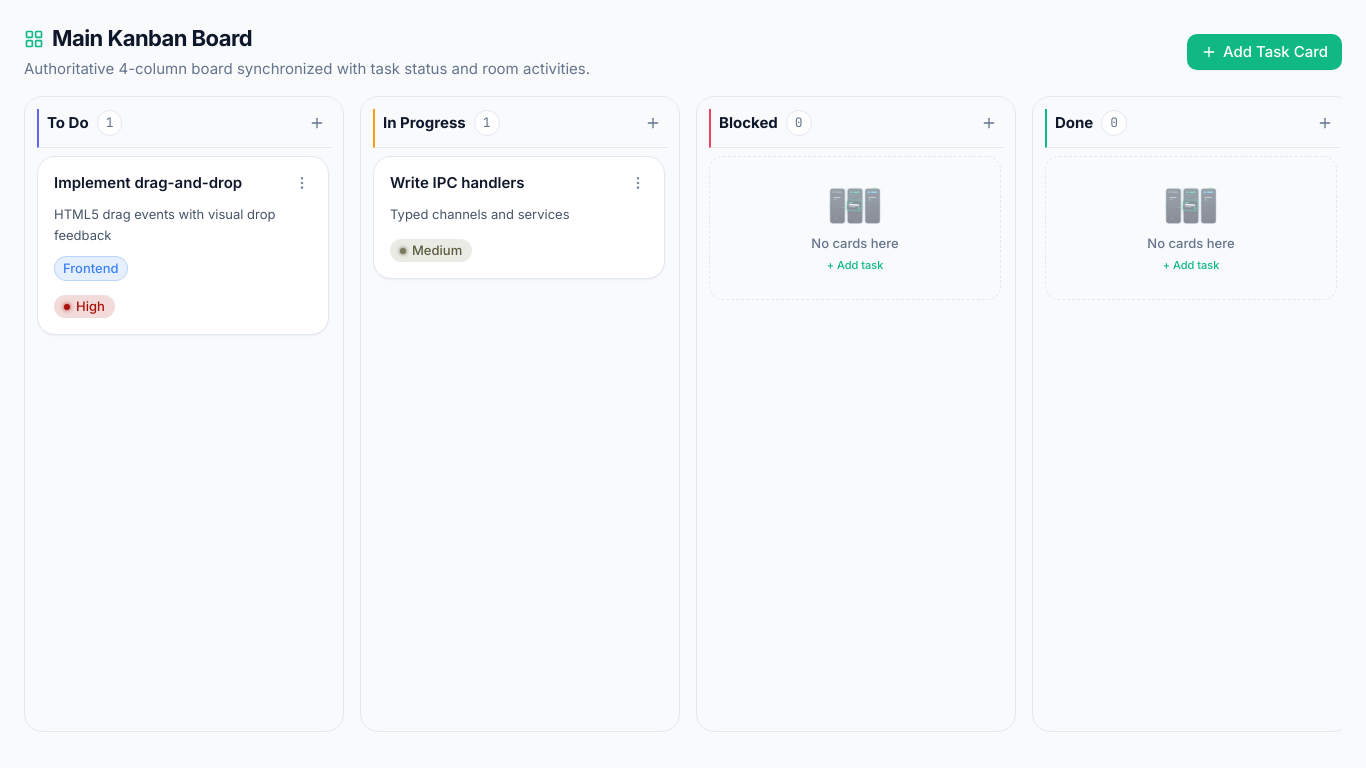
Test: káno̱ Desktop Kanban Board › opens New Task dialog with column preselected when column + button is clicked
This screenshot has width=1366, height=768.
Expected: the text "To Do" is shown, top-left (47, 112), bottom-right (89, 134)
// Click on In Progress column's + button
Click the button named "Add task to ": (653, 123) top-left (639, 109), bottom-right (667, 137)
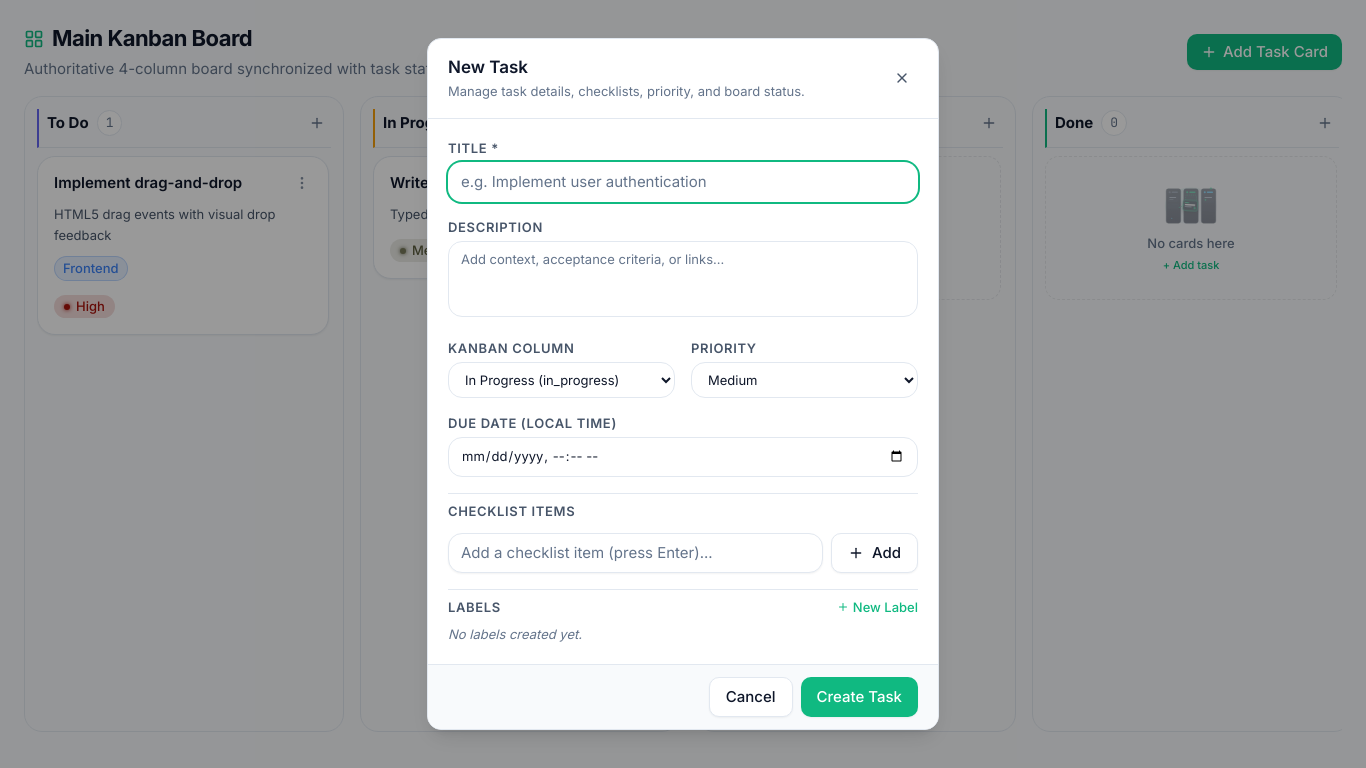
Result: the dialog "New Task" is shown
Result: the dropdown below "Kanban Column" shows "In Progress (in_progress)" at top-left (448, 362), bottom-right (675, 398)
